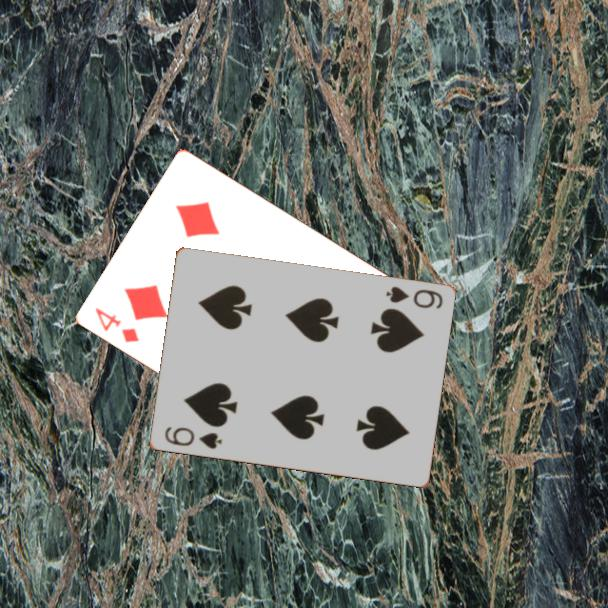d04: (92, 304, 143, 345)
s06: (161, 423, 225, 452), (382, 283, 445, 312)
